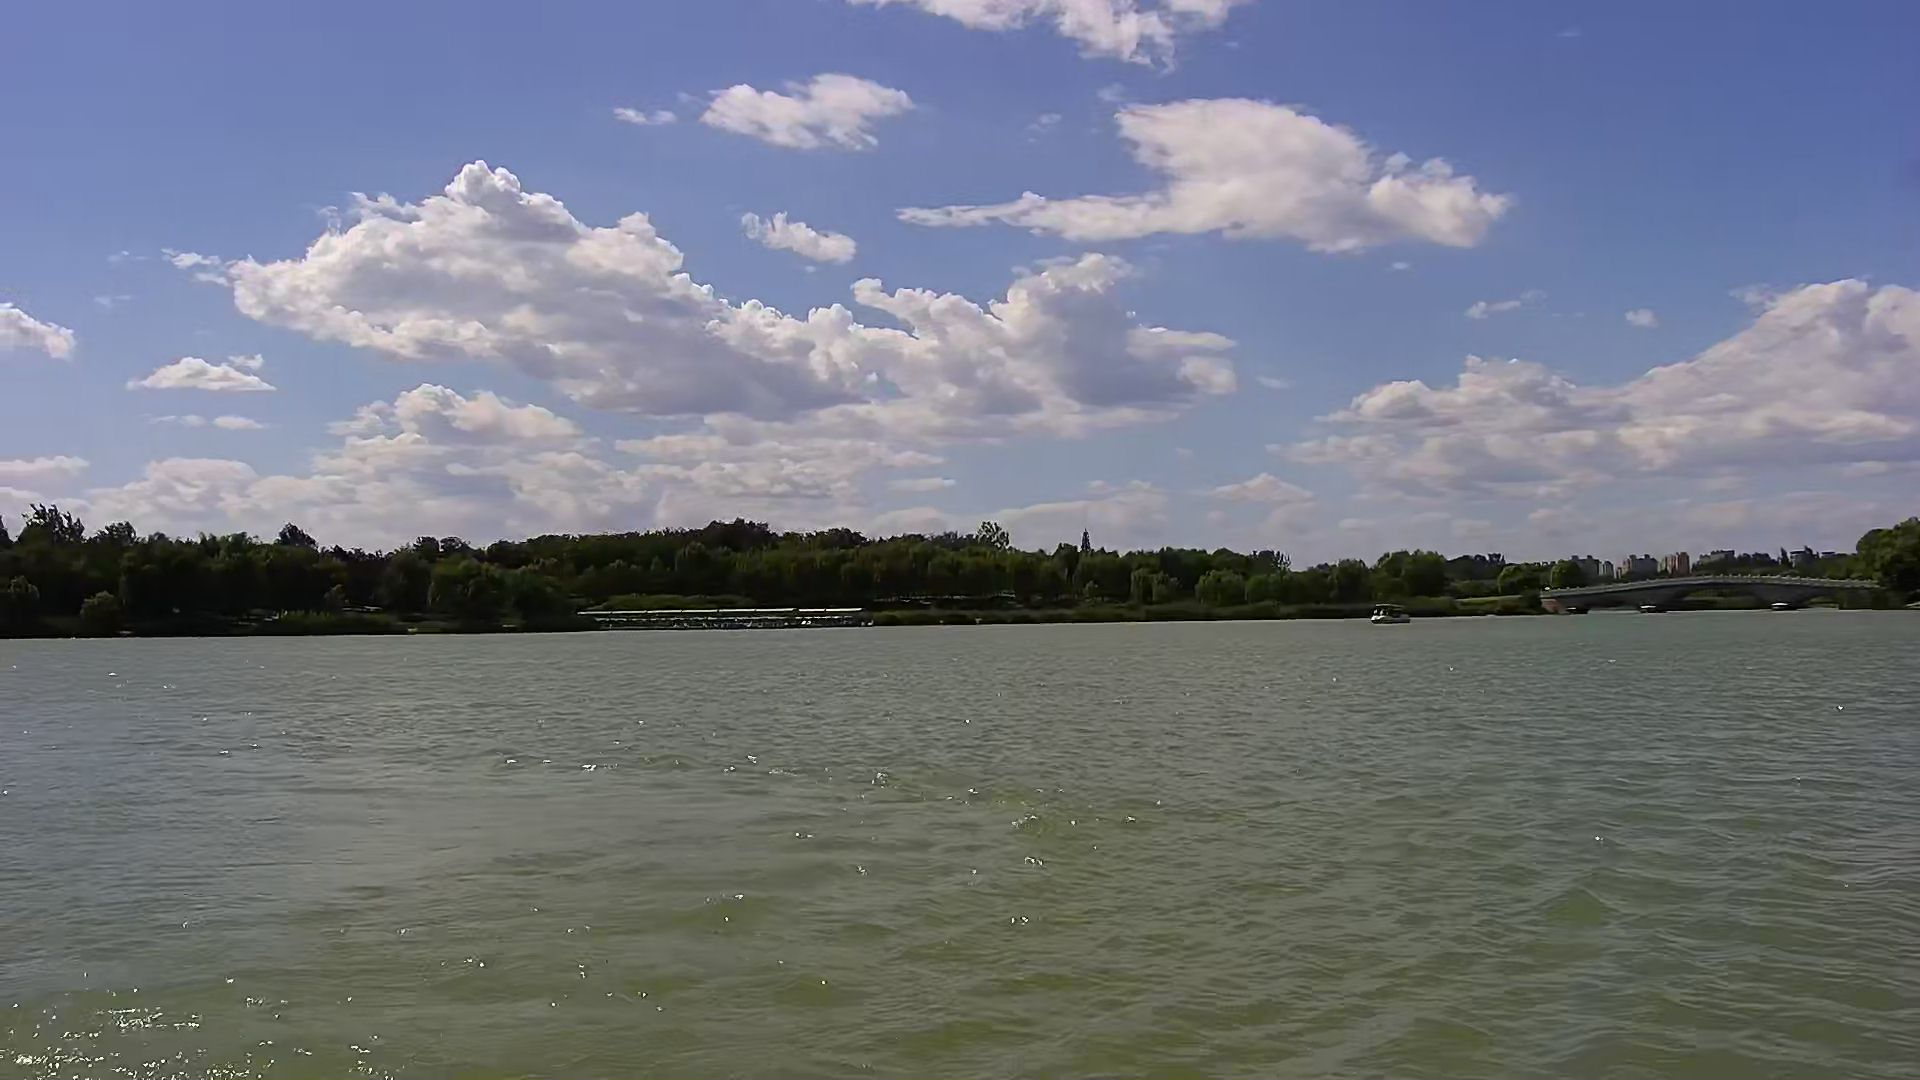boat: (1367, 603, 1415, 626)
bridge: (1548, 575, 1878, 611), (582, 607, 868, 626)
